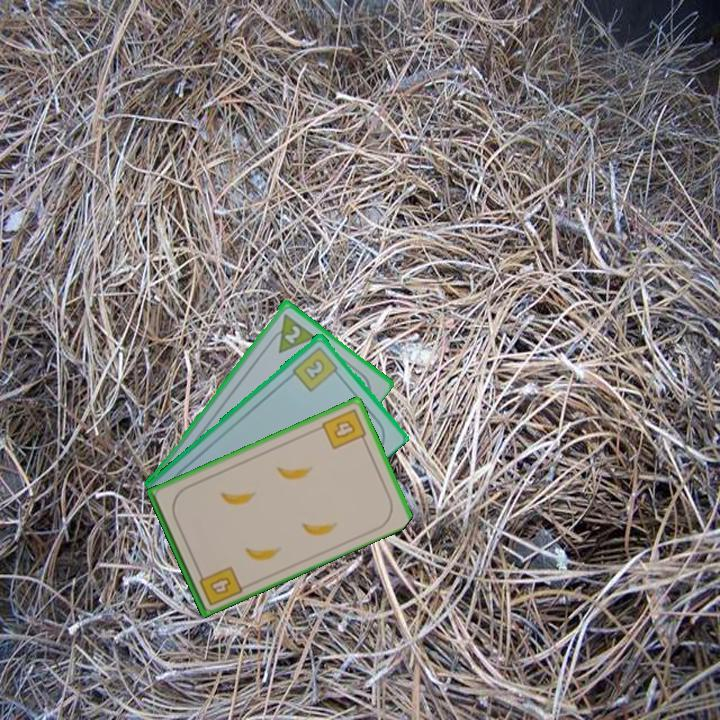2b: (289, 342, 343, 394)
2p: (264, 310, 317, 356)
4b: (318, 405, 370, 452), (194, 562, 245, 608)
